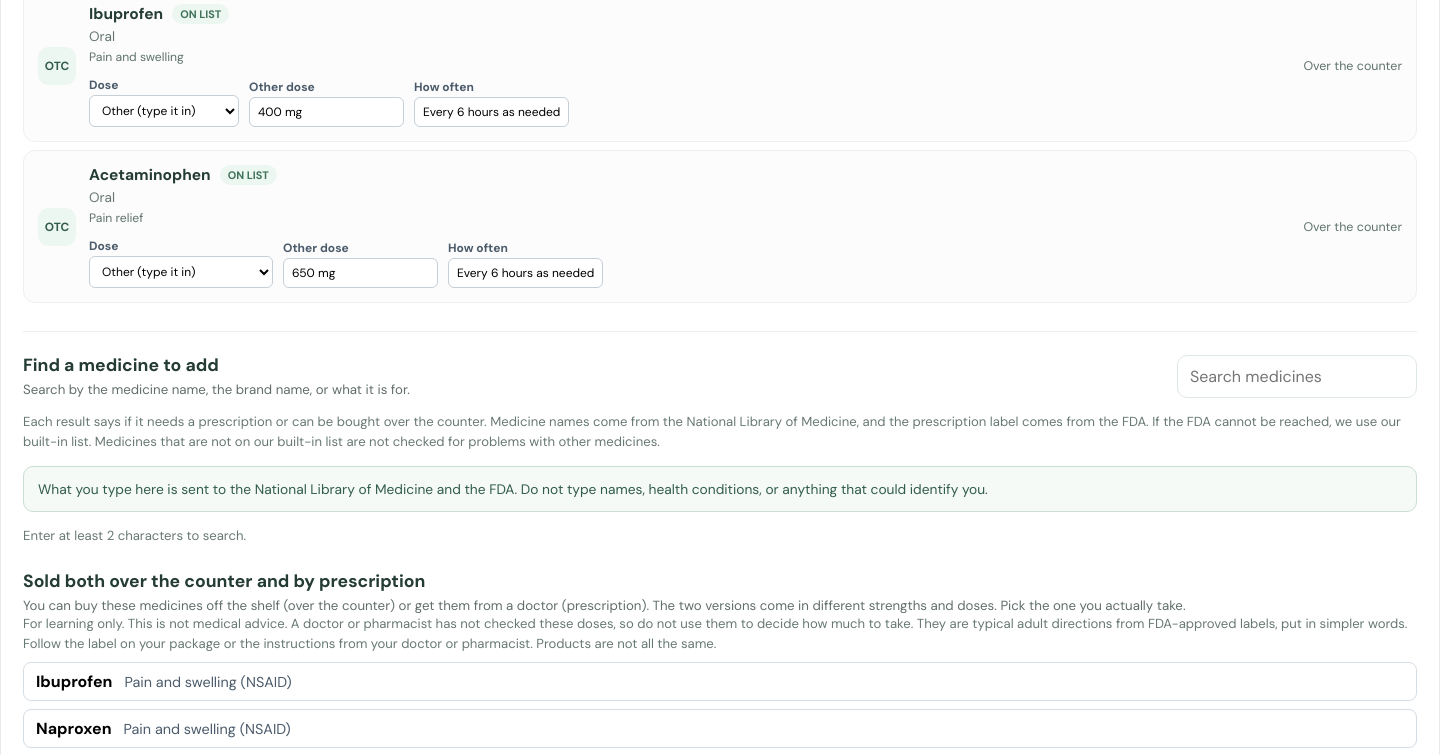
Test: an RxNorm result sold both ways offers an Rx and an OTC add button
The image size is (1440, 755).
(page scrolled)
Step 1. Type "examplamine" into the search field named "Search all medicines" → point(1297, 376), box [1177, 355, 1417, 398]
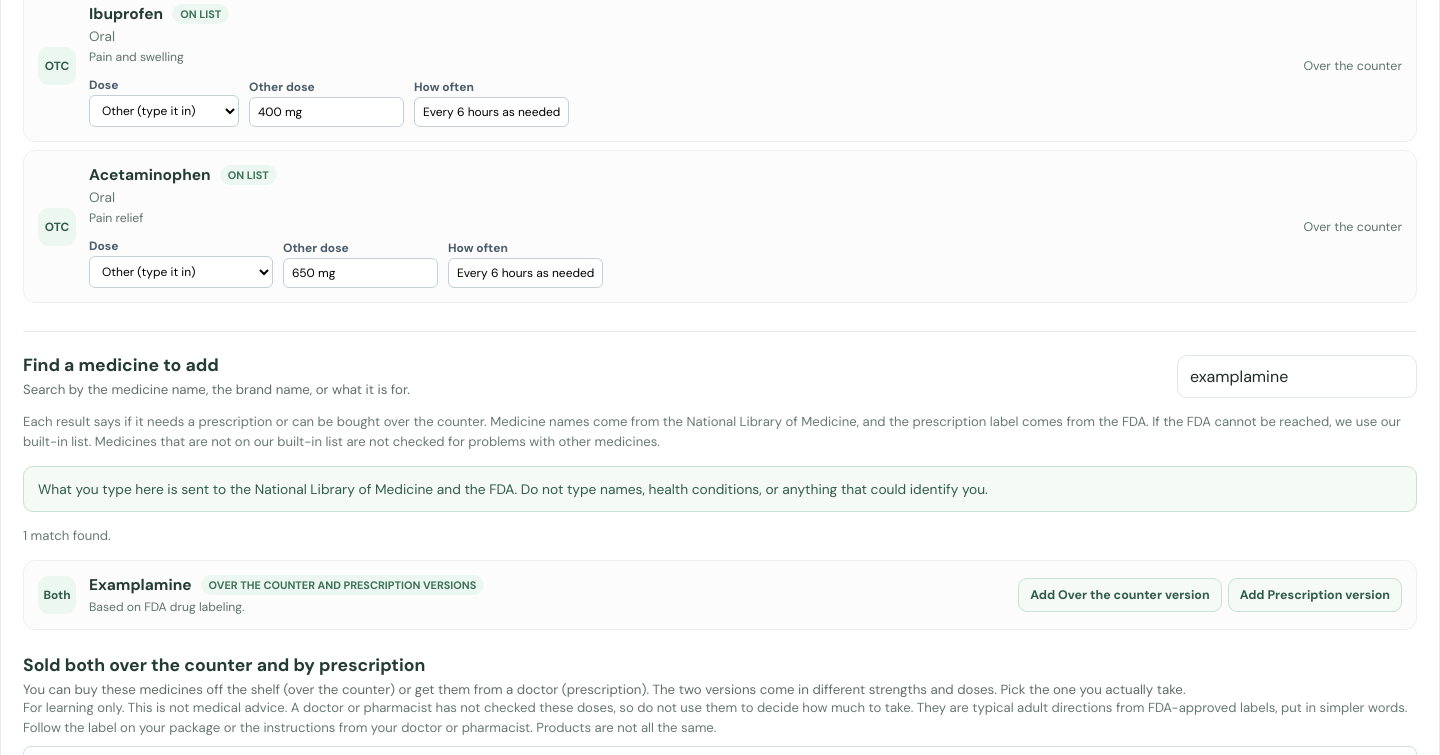
Expected: the button with aria-label "Add Examplamine Prescription version" is shown, [1228, 578, 1402, 612]
Step 2. Click the button with aria-label "Add Examplamine Over the counter version" → point(1120, 595), box [1018, 578, 1222, 612]
(page scrolled)
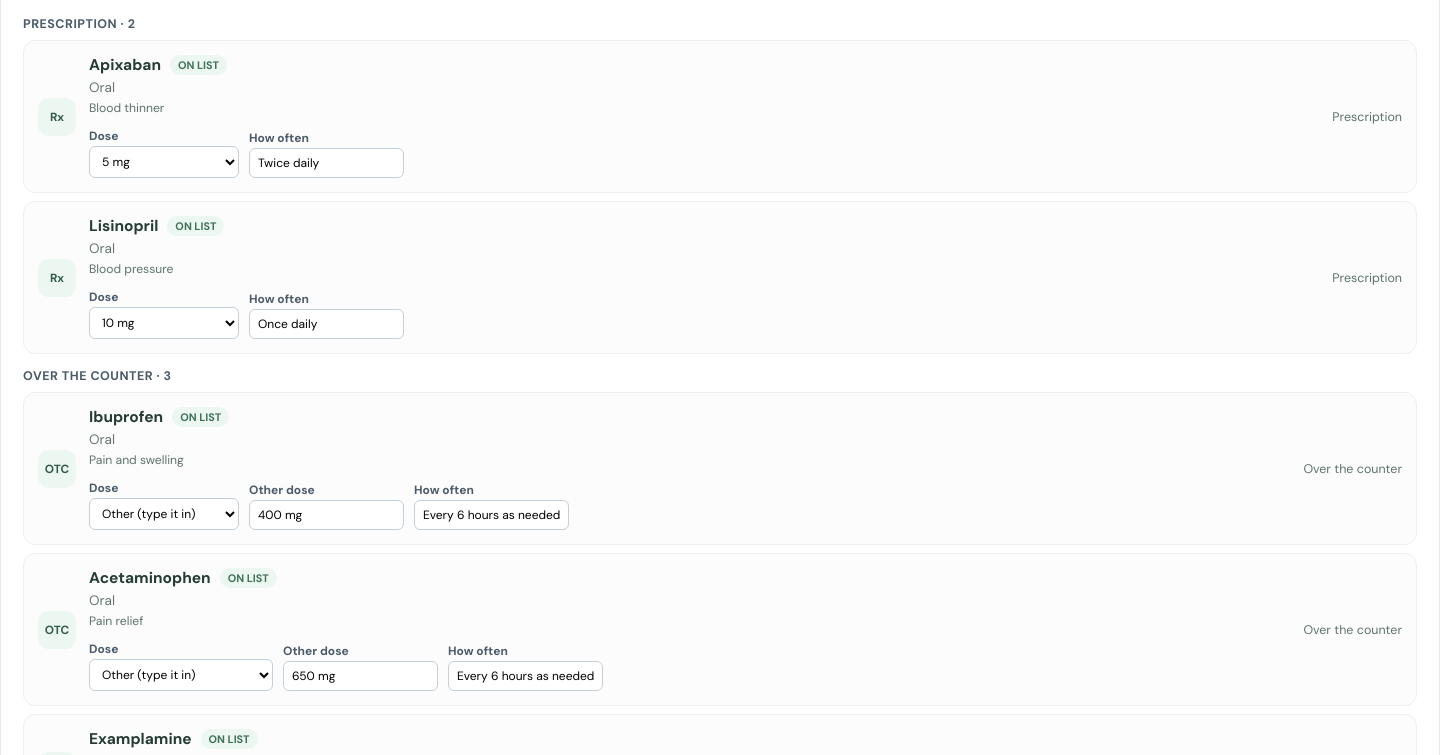
Expected: the list item "Over the counter · 3" is shown, [23, 368, 172, 384]
